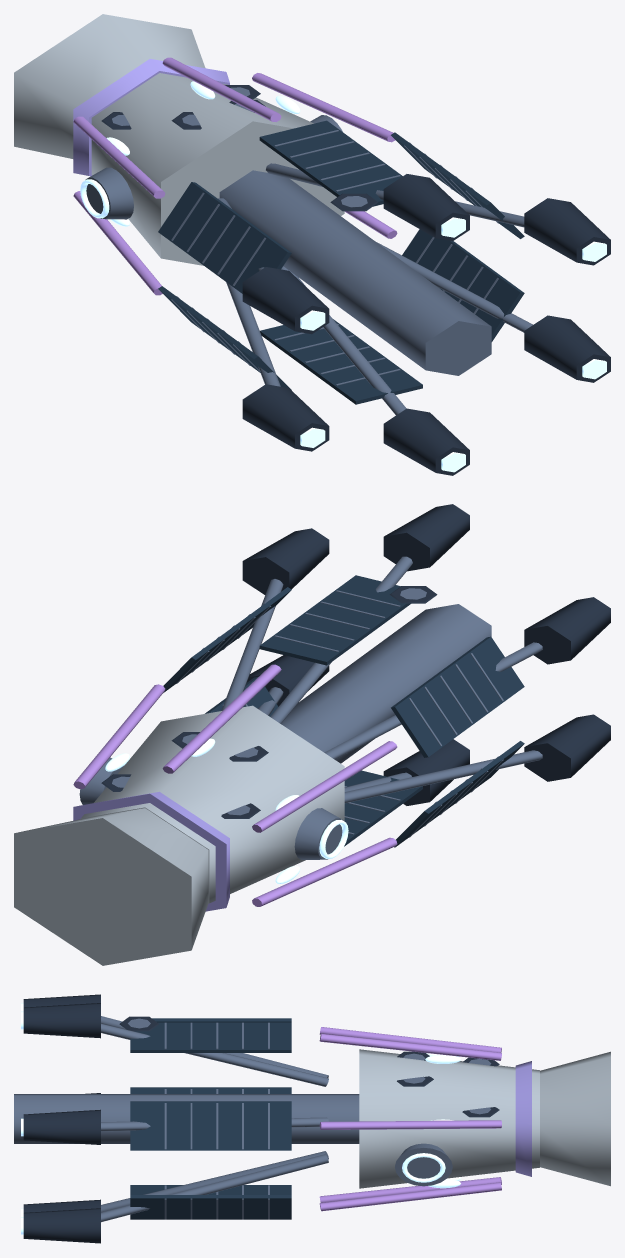
The model's file is cryogenic_hydrocarbon--warp_scout.glb.
The picture shows the model from 3 angles, top to bottom: view 1: azimuth 30°, elevation 25°; view 2: azimuth 150°, elevation 25°; view 3: azimuth 270°, elevation 25°; orthographic projection. The views are drawn at different scales.
Visible parts, largest first — view 1: thermal_isolation_spine_1, cold_habitat_lantern_2, forward_ice_cap_3, heat_rejection_fin_64, heat_rejection_fin_9, heat_rejection_fin_42, heat_rejection_fin_31, isolated_hot_drive_51, isolated_hot_drive_62, isolated_hot_drive_18, isolated_hot_drive_29, isolated_hot_drive_7 (+13 smaller); view 2: forward_ice_cap_3, cold_habitat_lantern_2, thermal_isolation_spine_1, heat_rejection_fin_64, heat_rejection_fin_9, isolated_hot_drive_62, isolated_hot_drive_7, isolated_hot_drive_51, isolated_hot_drive_18, radial_observation_band_4, isolated_hot_drive_40, thermal_drive_boom_50 (+13 smaller); view 3: cold_habitat_lantern_2, forward_ice_cap_3, heat_rejection_fin_20, thermal_isolation_spine_1, heat_rejection_fin_9, heat_rejection_fin_31, isolated_hot_drive_29, isolated_hot_drive_18, isolated_hot_drive_7, radial_observation_band_4, thermal_drive_boom_28, thermal_drive_boom_6 (+15 smaller).
Boxes of the visible parts, x1,y1,x2,y2 form: thermal_isolation_spine_1: [219, 170, 491, 375]; cold_habitat_lantern_2: [91, 73, 344, 265]; forward_ice_cap_3: [14, 14, 205, 158]; heat_rejection_fin_64: [158, 182, 291, 293]; heat_rejection_fin_9: [259, 120, 402, 206]; heat_rejection_fin_42: [260, 319, 422, 404]; heat_rejection_fin_31: [402, 229, 524, 341]; isolated_hot_drive_51: [242, 384, 329, 451]; isolated_hot_drive_62: [242, 267, 329, 334]; isolated_hot_drive_18: [524, 198, 610, 265]; isolated_hot_drive_29: [524, 315, 610, 382]; isolated_hot_drive_7: [383, 174, 469, 241]; forward_ice_cap_3: [14, 808, 208, 965]; cold_habitat_lantern_2: [81, 705, 344, 903]; thermal_isolation_spine_1: [281, 604, 491, 763]; heat_rejection_fin_64: [391, 636, 524, 757]; heat_rejection_fin_9: [259, 575, 410, 665]; isolated_hot_drive_62: [524, 597, 610, 664]; isolated_hot_drive_7: [383, 504, 469, 571]; isolated_hot_drive_51: [524, 714, 610, 781]; isolated_hot_drive_18: [242, 528, 329, 594]; radial_observation_band_4: [73, 791, 229, 911]; isolated_hot_drive_40: [383, 739, 469, 805]; thermal_drive_boom_50: [344, 750, 542, 803]; cold_habitat_lantern_2: [359, 1049, 539, 1188]; forward_ice_cap_3: [540, 1051, 610, 1186]; heat_rejection_fin_20: [130, 1101, 291, 1150]; thermal_isolation_spine_1: [14, 1094, 359, 1143]; heat_rejection_fin_9: [130, 1022, 291, 1052]; heat_rejection_fin_31: [130, 1195, 291, 1219]; isolated_hot_drive_29: [23, 1208, 100, 1243]; isolated_hot_drive_18: [23, 1109, 100, 1144]; isolated_hot_drive_7: [23, 1003, 100, 1038]; radial_observation_band_4: [515, 1061, 531, 1176]; thermal_drive_boom_28: [101, 1154, 328, 1222]; thermal_drive_boom_6: [101, 1023, 328, 1086].
Size of the model in its own units: 98 by 78 by 184.
